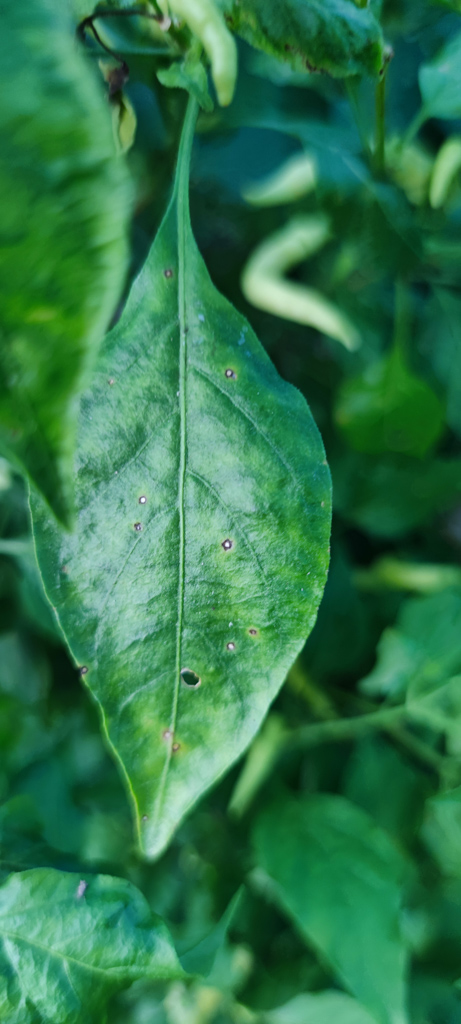frog-eye leafspot: (226, 621, 258, 655), (159, 723, 186, 758), (220, 357, 241, 385), (133, 486, 154, 509), (217, 532, 233, 556), (162, 263, 174, 289), (74, 662, 89, 674)
